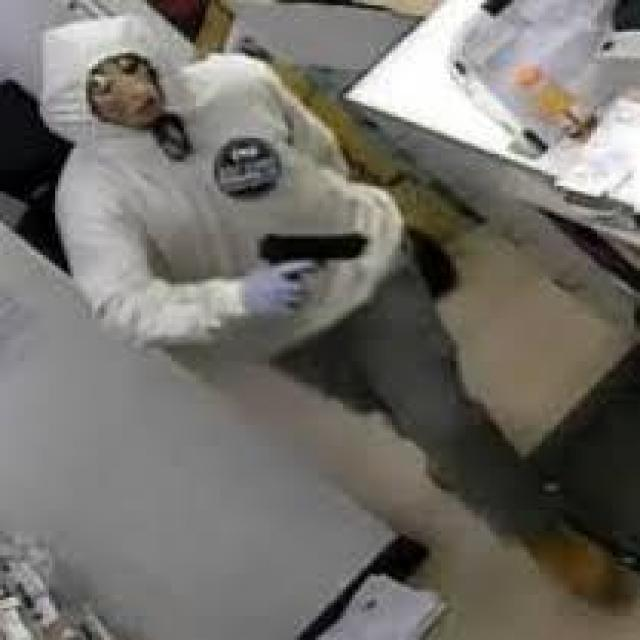weapon: (235, 215, 374, 290)
